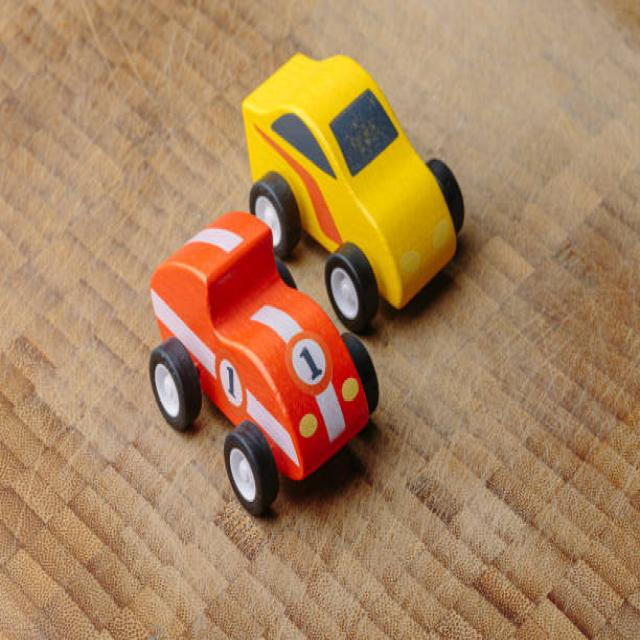Car: (148, 209, 378, 516), (240, 50, 464, 333)
